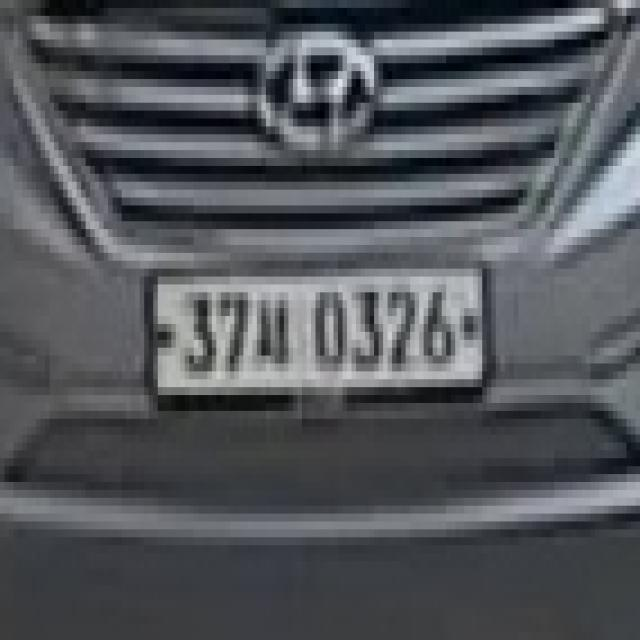0: (311, 284, 347, 380)
2: (383, 276, 419, 372)
3: (180, 284, 217, 372), (352, 284, 383, 372)
6: (419, 284, 455, 380)
7: (216, 284, 248, 372)
license_plate: (149, 253, 491, 403)
seo: (252, 293, 293, 372)
